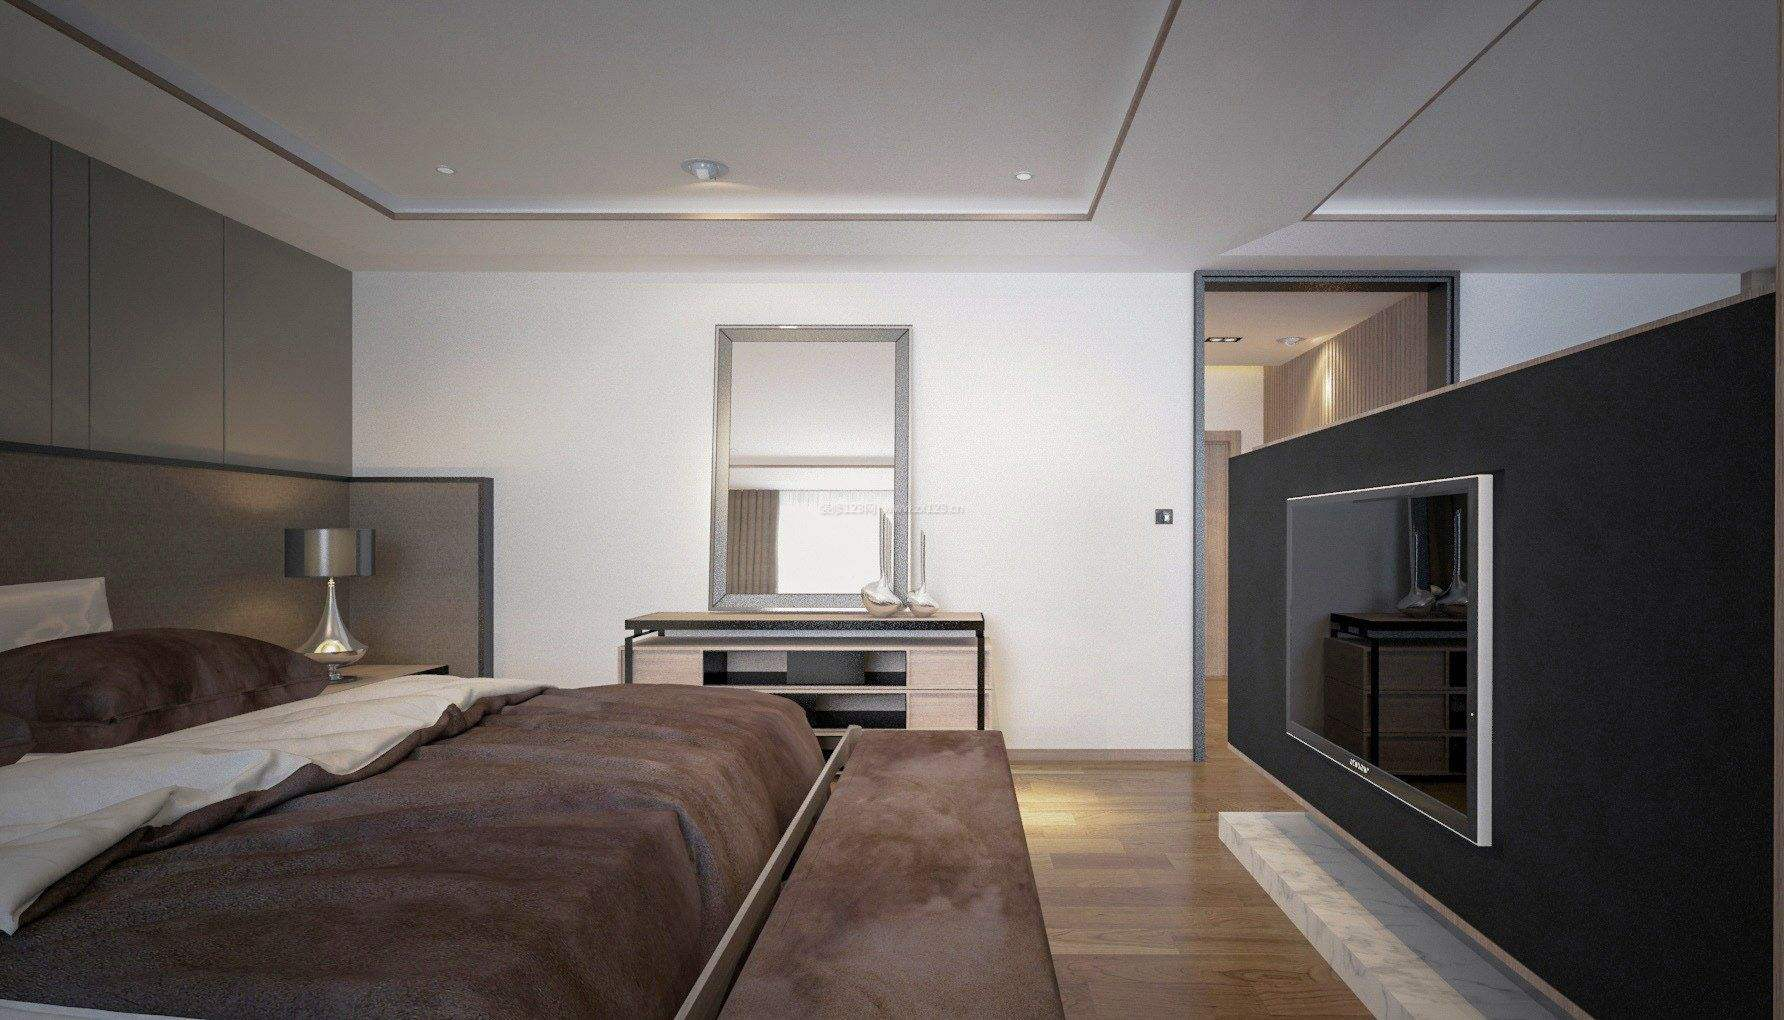床: (7, 683, 1055, 1015)
枕头: (11, 618, 323, 733)
灯: (283, 525, 379, 672), (678, 156, 734, 192), (1007, 166, 1040, 190), (430, 162, 463, 186), (1204, 333, 1244, 349)
